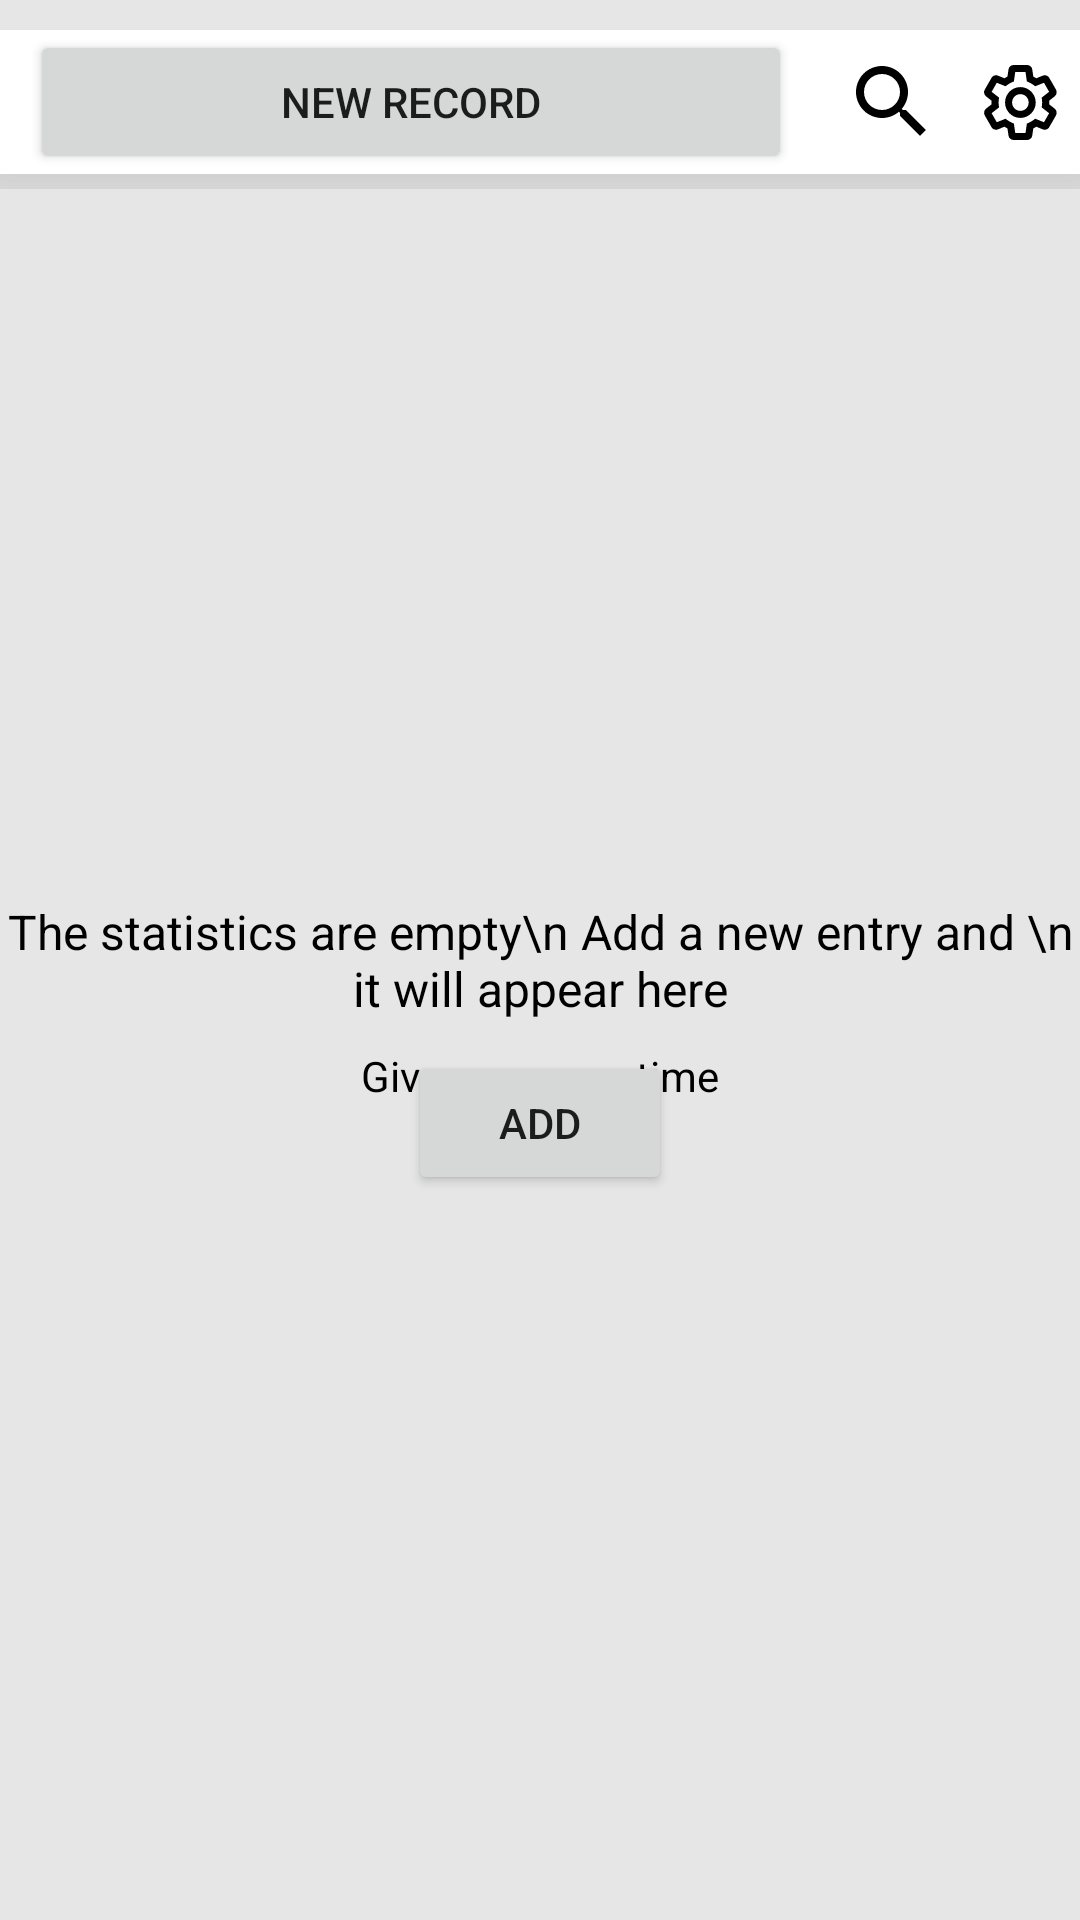

Where icons sit on this 1080px×1920px app screen, as (left=x1, top=y1, right=x2, bottom=y2):
search: (left=856, top=66, right=926, bottom=136)
settings: (left=984, top=65, right=1057, bottom=140)
